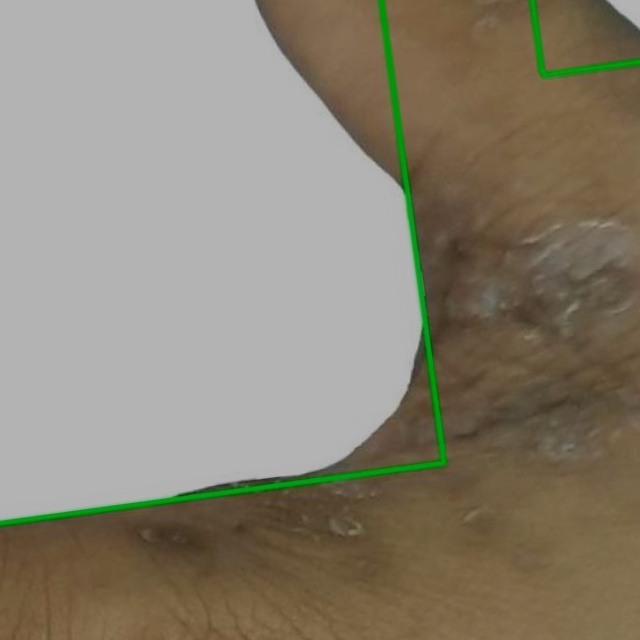Scabies: (0, 0, 639, 639), (0, 0, 444, 523)
